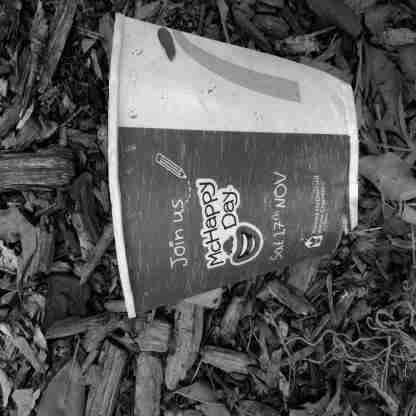plastic: (101, 8, 365, 320)
